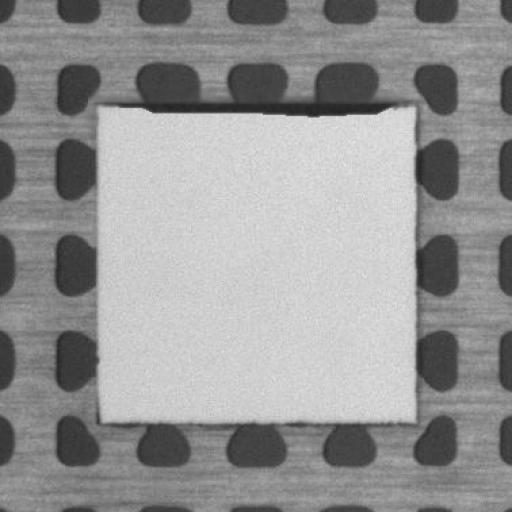DIE_BROKEN: (107, 93, 398, 118)
